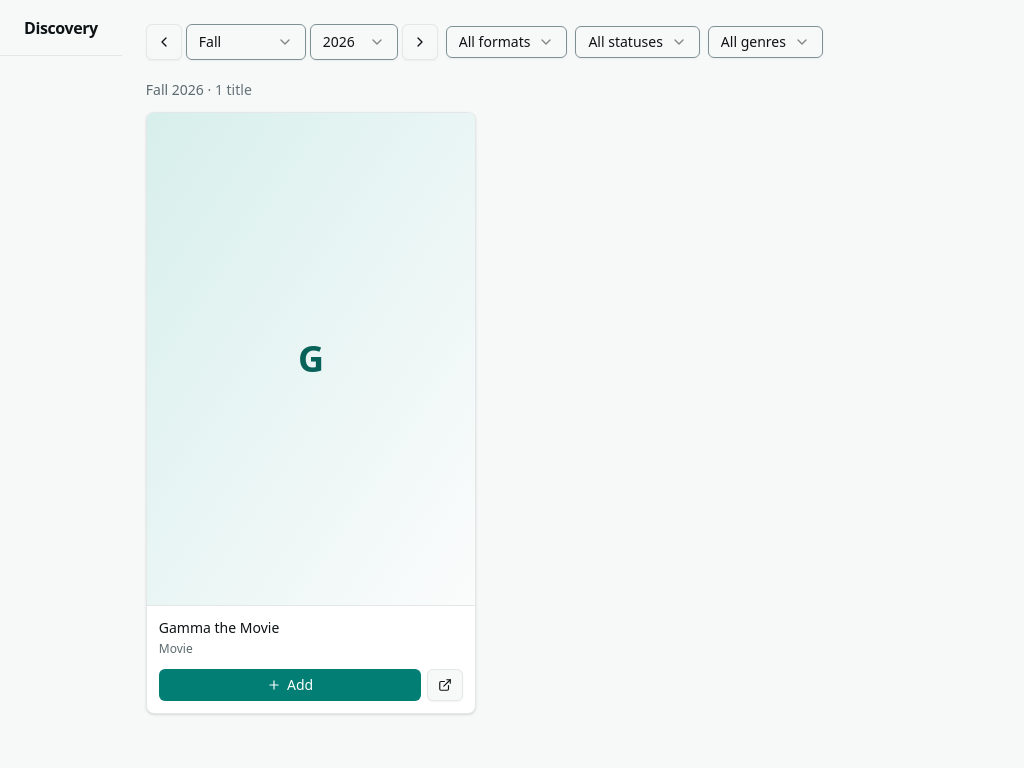
Test case: DiscoveryPage › opens the add form for a movie
Expected: the text "Gamma the Movie" is shown, [159, 618, 279, 637]
Click the button "Add": (290, 685) [159, 669, 421, 701]
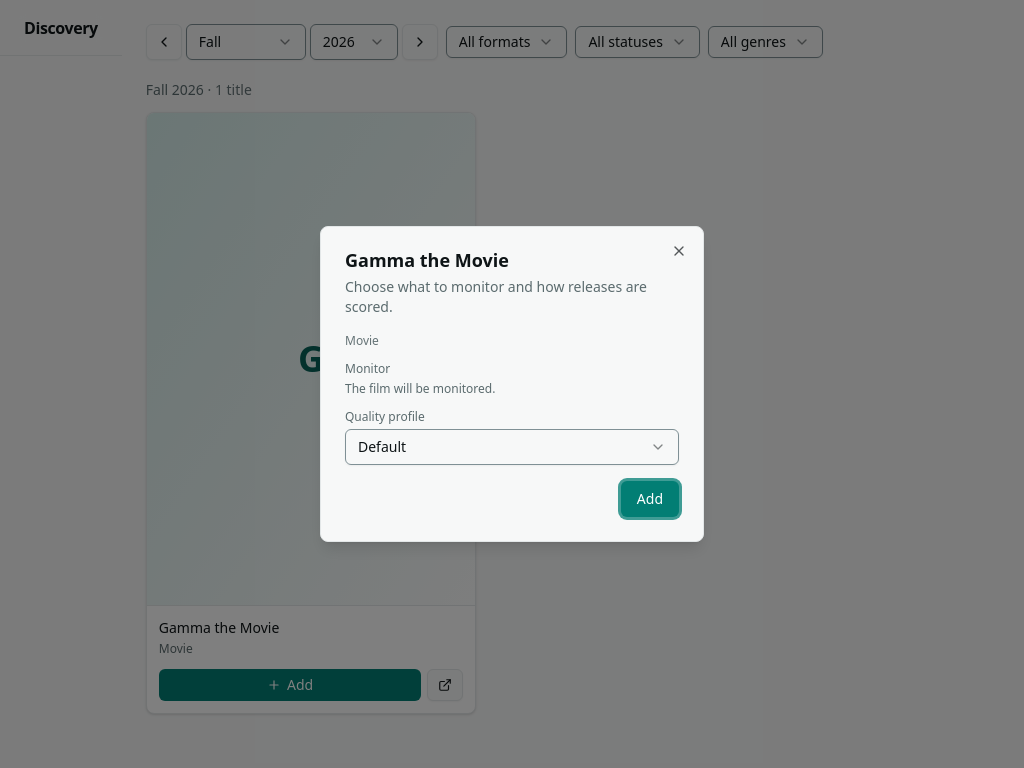
Expected: the button with aria-label "Add Gamma the Movie" is shown, [621, 481, 679, 517]
